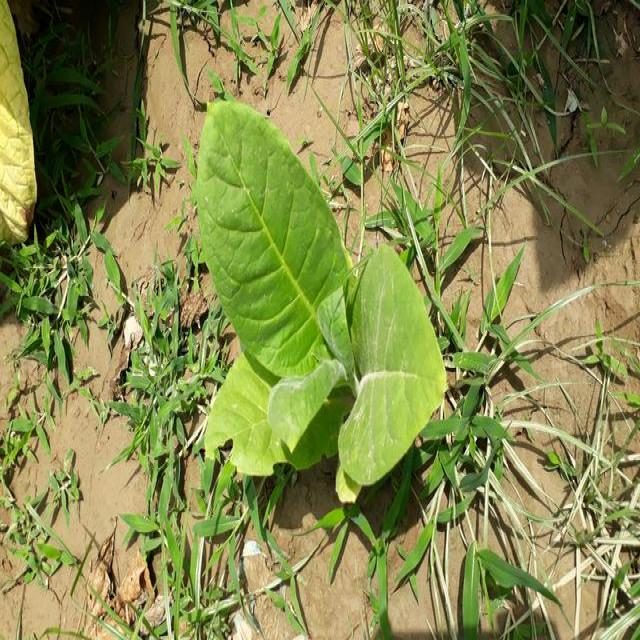crop: (189, 110, 433, 486)
